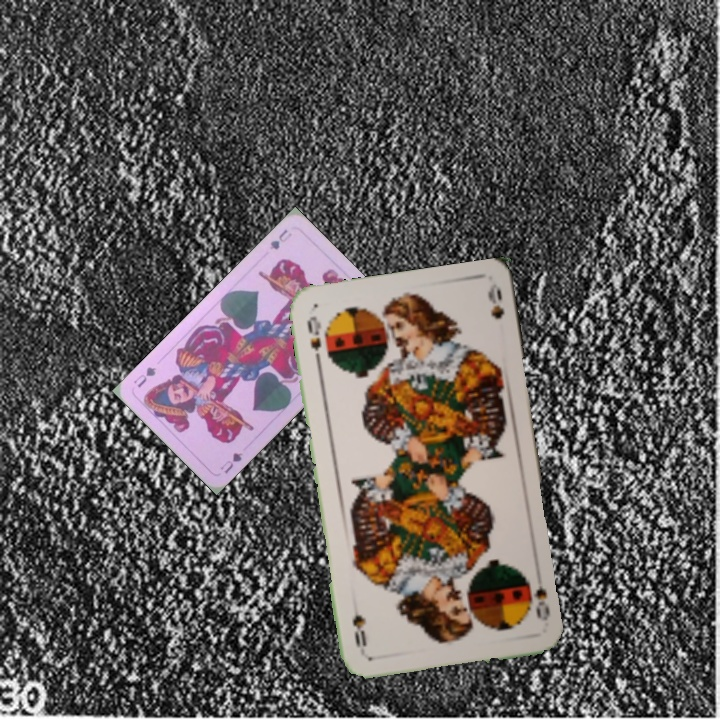GU: (216, 448, 245, 476), (266, 225, 294, 252)
SO: (522, 569, 553, 623), (303, 312, 324, 368)
